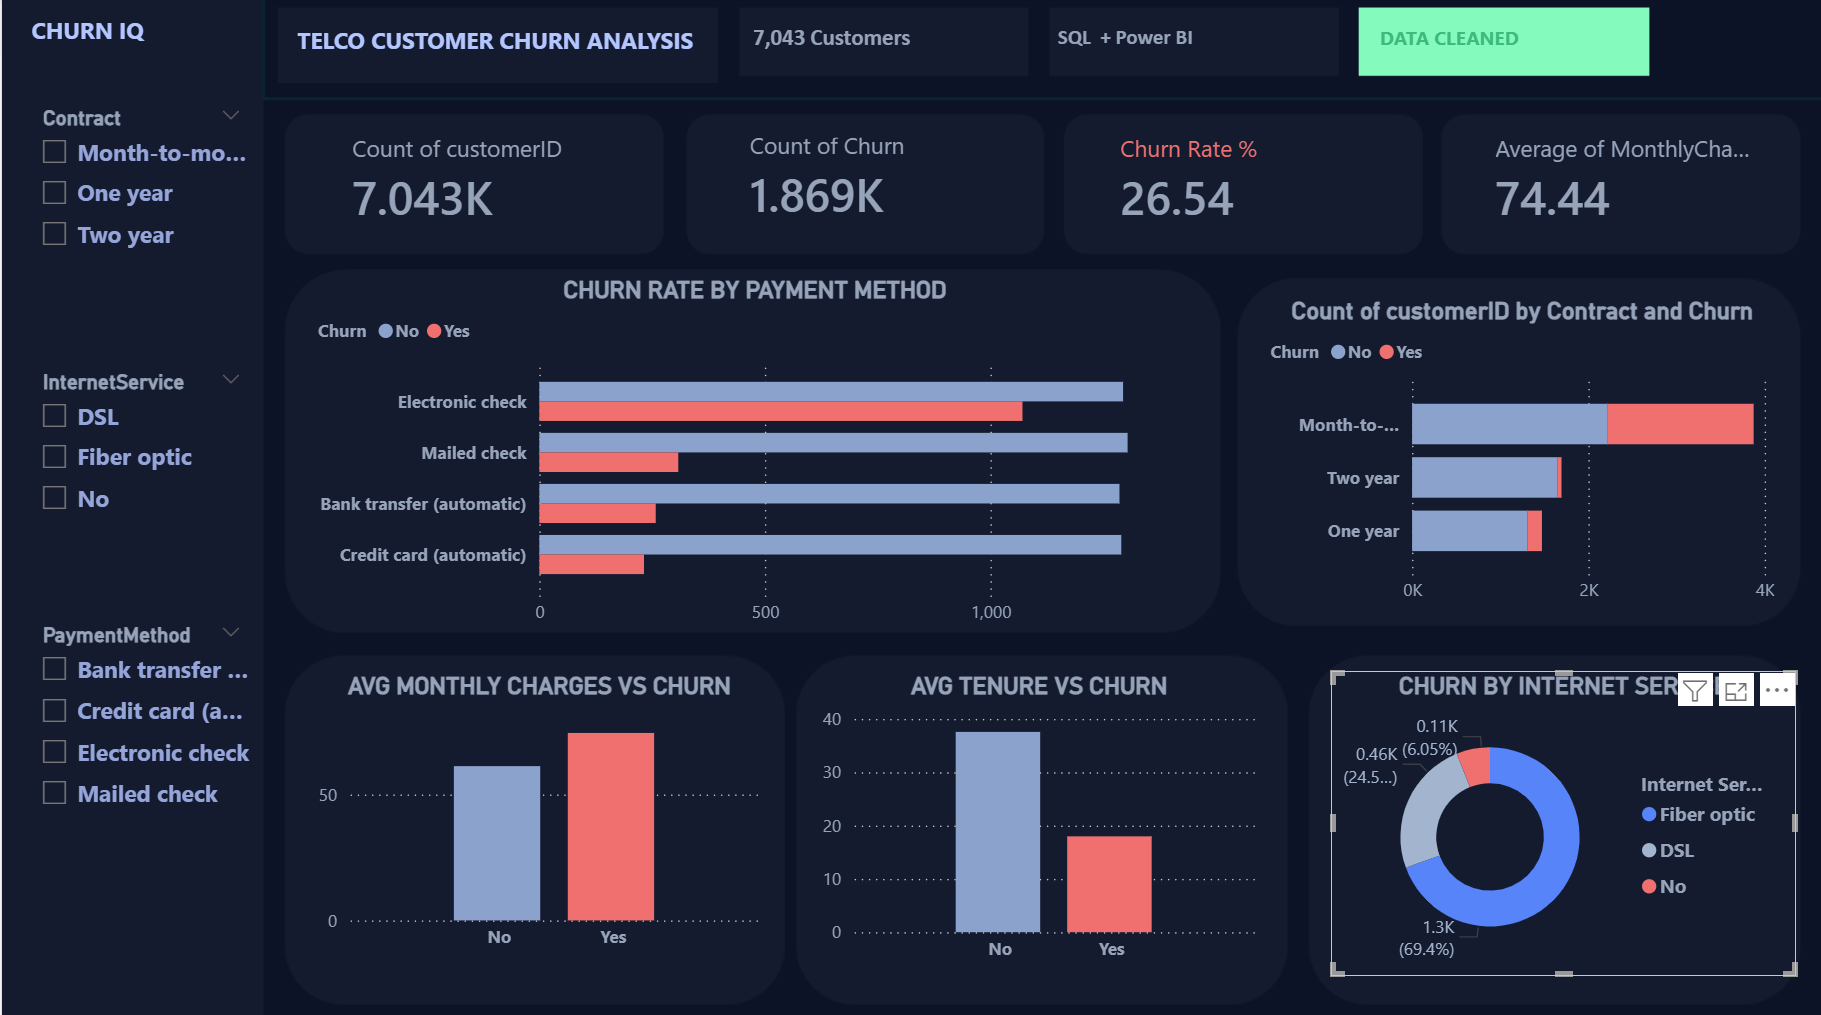

The page's visual inventory and layout, read from the dashboard file:
{"tool":"powerbi","page":{"name":"Page 1","canvas":[1280,720],"ordinal":0},"visuals":[{"type":"cardVisual","fields":{"Data":["CountNonNull(telco_churn.Churn)"]},"box":[495.6,82.6,238.2,89.8],"z":0},{"type":"barChart","fields":{"Category":["telco_churn.Contract"],"Series":["telco_churn.Churn"],"Y":["CountNonNull(telco_churn.customerID)"]},"box":[886.2,210.2,363.6,224.4],"z":1000},{"type":"donutChart","title":"CHURN BY INTERNET SERVICE","fields":{"Category":["telco_churn.InternetService"],"Y":["CountNonNull(telco_churn.customerID)"]},"box":[933,474.3,326.6,213],"z":2000},{"type":"clusteredBarChart","title":"CHURN RATE BY PAYMENT METHOD ","fields":{"Category":["telco_churn.PaymentMethod"],"Y":["CountNonNull(telco_churn.customerID)"],"Series":["telco_churn.Churn"]},"box":[217.3,196,623.4,254.2],"z":3000},{"type":"clusteredColumnChart","title":"AVG MONTHLY CHARGES VS CHURN","fields":{"Category":["telco_churn.Churn","telco_churn.Churn Hierarchy.Churn"],"Y":["Avg(telco_churn.MonthlyCharges)"]},"box":[217.3,474.3,320.9,225.8],"z":4000},{"type":"cardVisual","fields":{"Data":["CountNonNull(telco_churn.customerID)"]},"box":[216.7,82.6,240.6,92.2],"z":5000},{"type":"cardVisual","fields":{"Data":["telco_churn.Churn Rate %"]},"box":[756.5,82.6,233.4,92.2],"z":6000},{"type":"clusteredColumnChart","title":"AVG TENURE VS CHURN ","fields":{"Y":["Avg(telco_churn.tenure)"],"Category":["telco_churn.Churn"]},"box":[571,474,314.8,213.1],"z":7000},{"type":"cardVisual","fields":{"Data":["Avg(telco_churn.MonthlyCharges)"]},"box":[1019.9,82.6,240.6,92.2],"z":8000},{"type":"textbox","box":[202.3,14.4,293.3,37.1],"z":9000},{"type":"textbox","box":[522.6,14.2,200.2,44],"z":10000},{"type":"textbox","box":[732.8,14.2,214.4,44],"z":11000},{"type":"textbox","box":[962.4,14.4,190.3,37.1],"z":12000},{"type":"slicer","fields":{"Values":["telco_churn.Contract"]},"box":[15.6,71.8,164,149.6],"z":12001},{"type":"slicer","fields":{"Values":["telco_churn.InternetService"]},"box":[15.6,257.4,164,128.1],"z":12002},{"type":"slicer","fields":{"Values":["telco_churn.PaymentMethod"]},"box":[15.6,434.5,164,164],"z":12003},{"type":"textbox","box":[15.6,7.2,164,52.7],"z":12004}]}

Visuals, with their boxes on the page's 1280x720 design canvas (x1, y1, x2, y2). These are canvas units, not pixel positions in the 1821x1015 screenshot, which may show the page scaled, cropped or inside an application window:
cardVisual - CountNonNull(telco_churn.Churn): (left=496, top=83, right=734, bottom=172)
barChart - telco_churn.Contract x telco_churn.Churn: (left=886, top=210, right=1250, bottom=435)
"CHURN BY INTERNET SERVICE" donutChart: (left=933, top=474, right=1260, bottom=687)
"CHURN RATE BY PAYMENT METHOD " clusteredBarChart: (left=217, top=196, right=841, bottom=450)
"AVG MONTHLY CHARGES VS CHURN" clusteredColumnChart: (left=217, top=474, right=538, bottom=700)
cardVisual - CountNonNull(telco_churn.customerID): (left=217, top=83, right=457, bottom=175)
cardVisual - telco_churn.Churn Rate %: (left=756, top=83, right=990, bottom=175)
"AVG TENURE VS CHURN " clusteredColumnChart: (left=571, top=474, right=886, bottom=687)
cardVisual - Avg(telco_churn.MonthlyCharges): (left=1020, top=83, right=1260, bottom=175)
textbox: (left=202, top=14, right=496, bottom=52)
textbox: (left=523, top=14, right=723, bottom=58)
textbox: (left=733, top=14, right=947, bottom=58)
textbox: (left=962, top=14, right=1153, bottom=52)
slicer - telco_churn.Contract: (left=16, top=72, right=180, bottom=221)
slicer - telco_churn.InternetService: (left=16, top=257, right=180, bottom=386)
slicer - telco_churn.PaymentMethod: (left=16, top=434, right=180, bottom=598)
textbox: (left=16, top=7, right=180, bottom=60)
